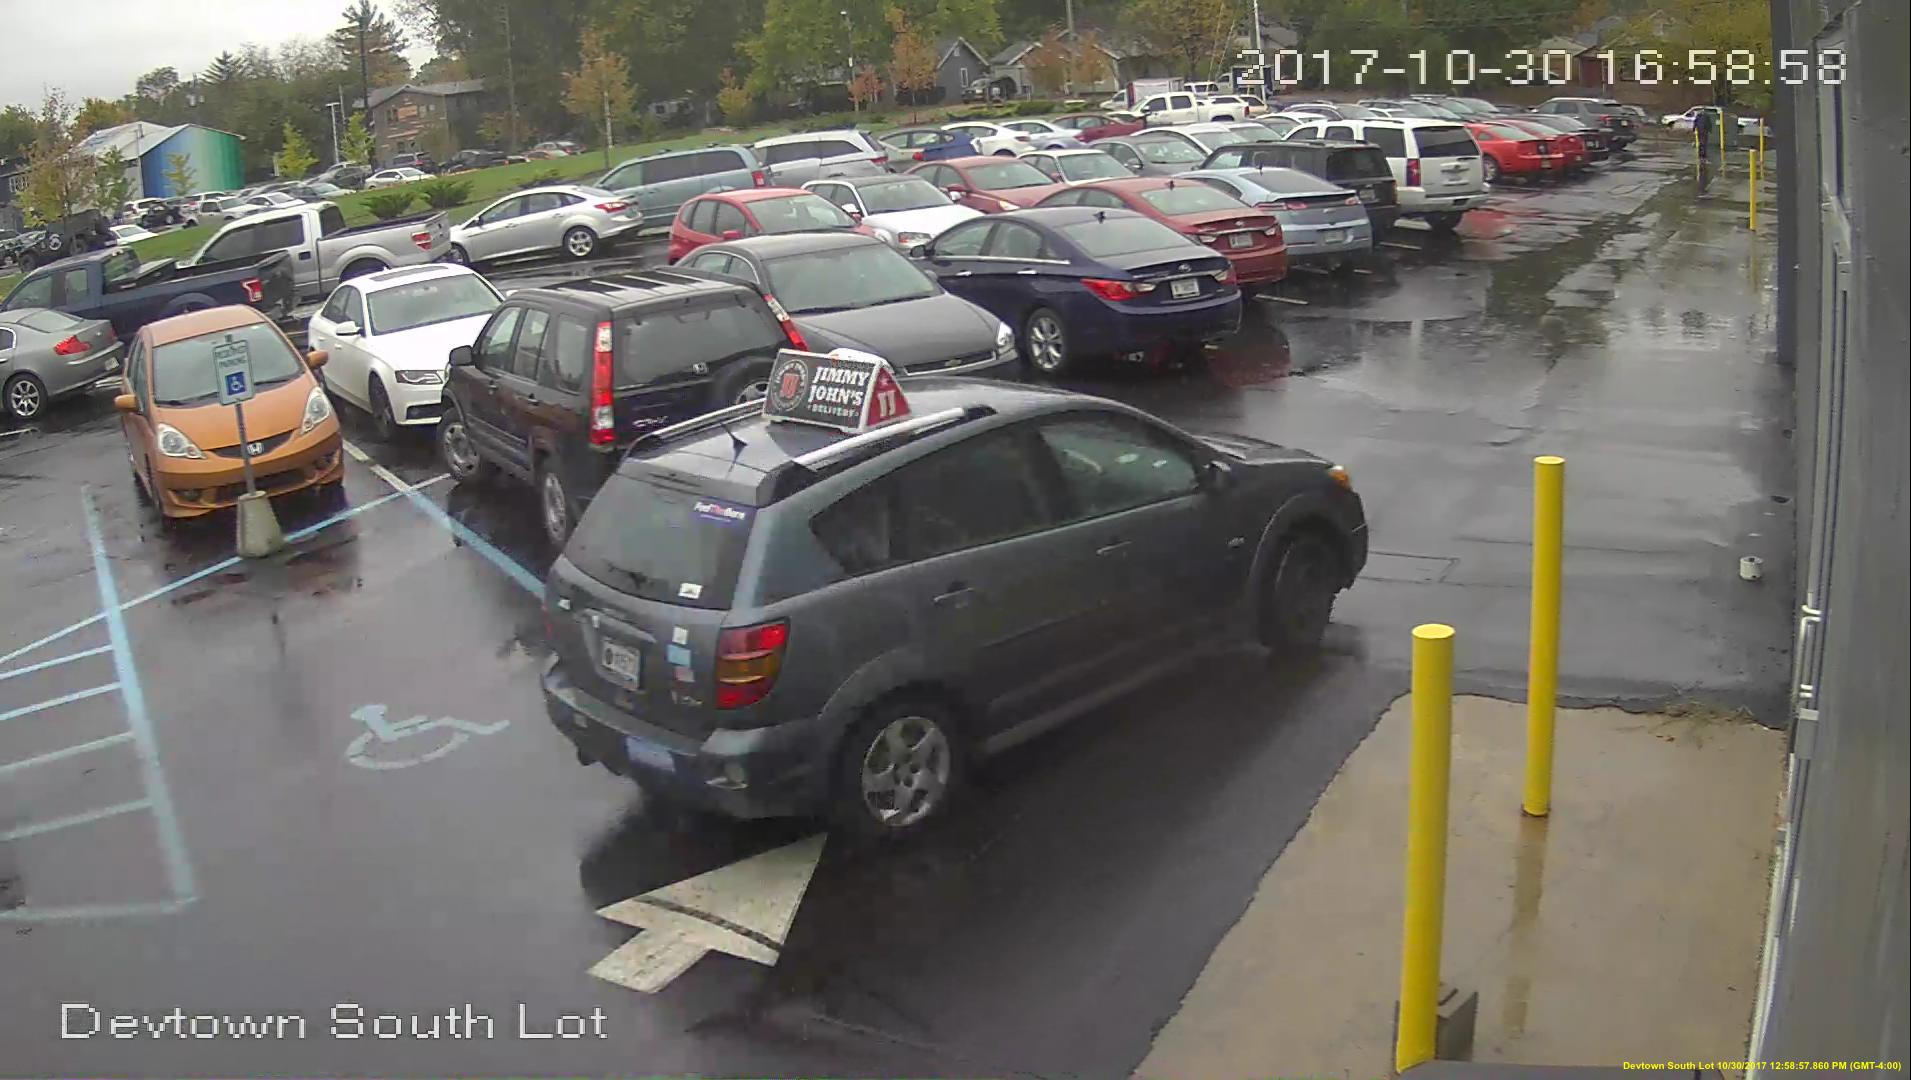jimmy_johns: (761, 346, 910, 434)
